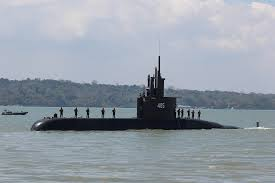Submarine: (31, 56, 260, 130)
